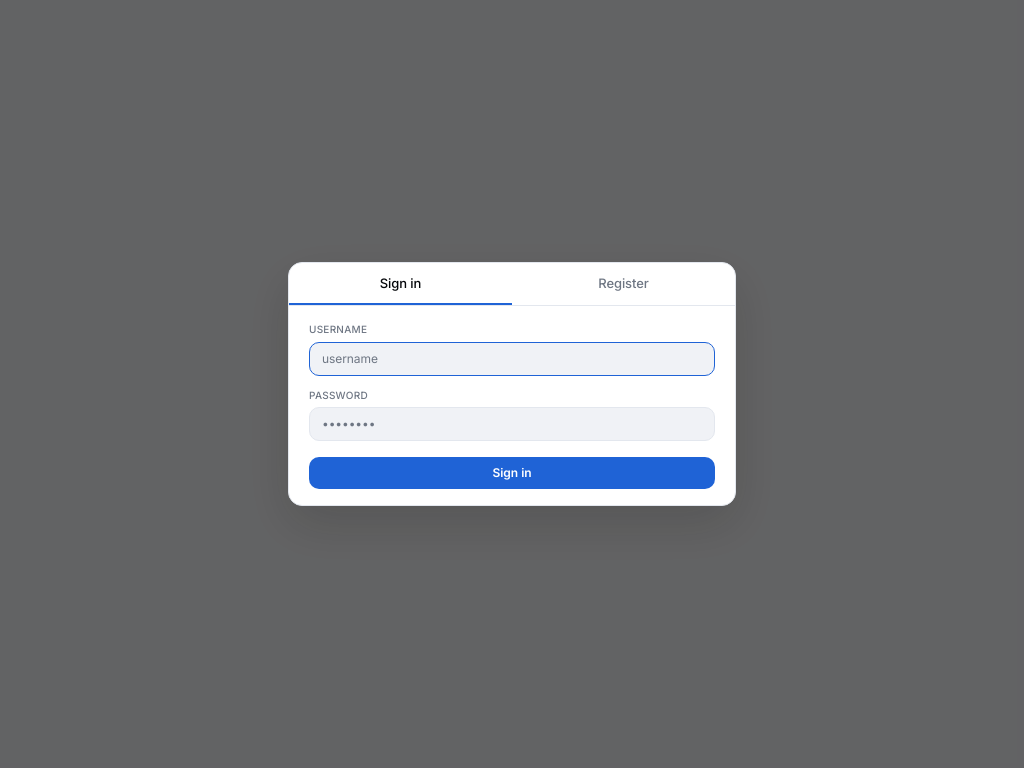
it: AuthModal › surfaces a 409 username-taken error from register
Step 1. Click the button "Register" → {"x": 624, "y": 284}, box [512,263,735,305]
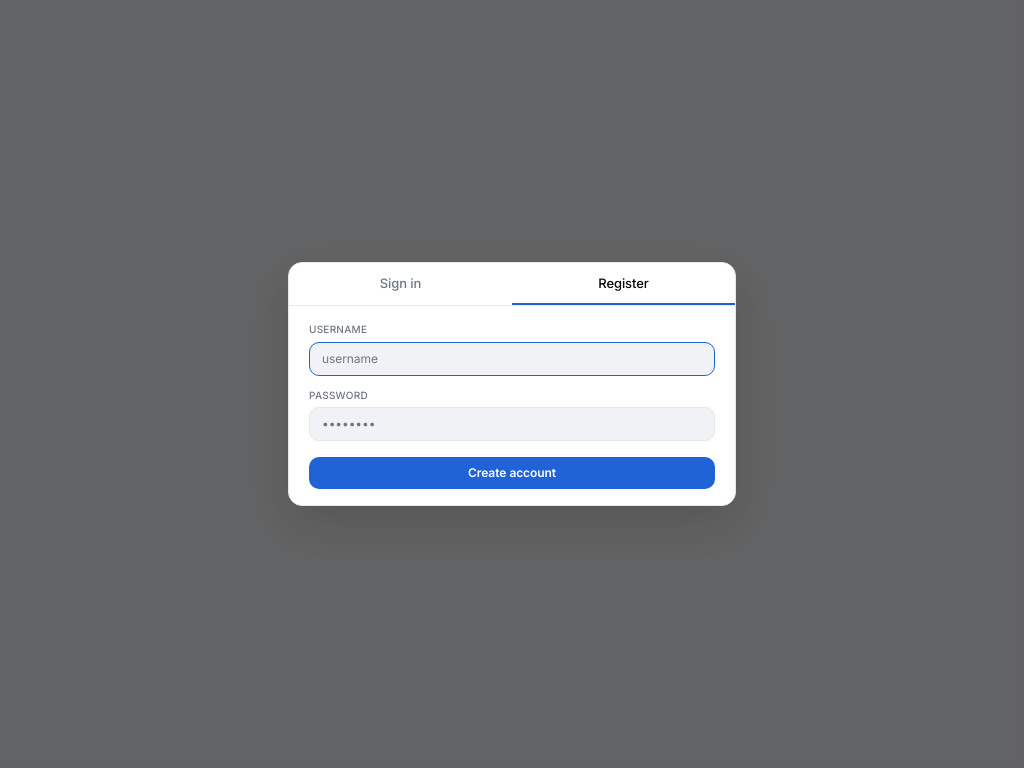
Step 2. Type "alice" into the field with placeholder "Username" → {"x": 512, "y": 359}, box [309,342,715,376]
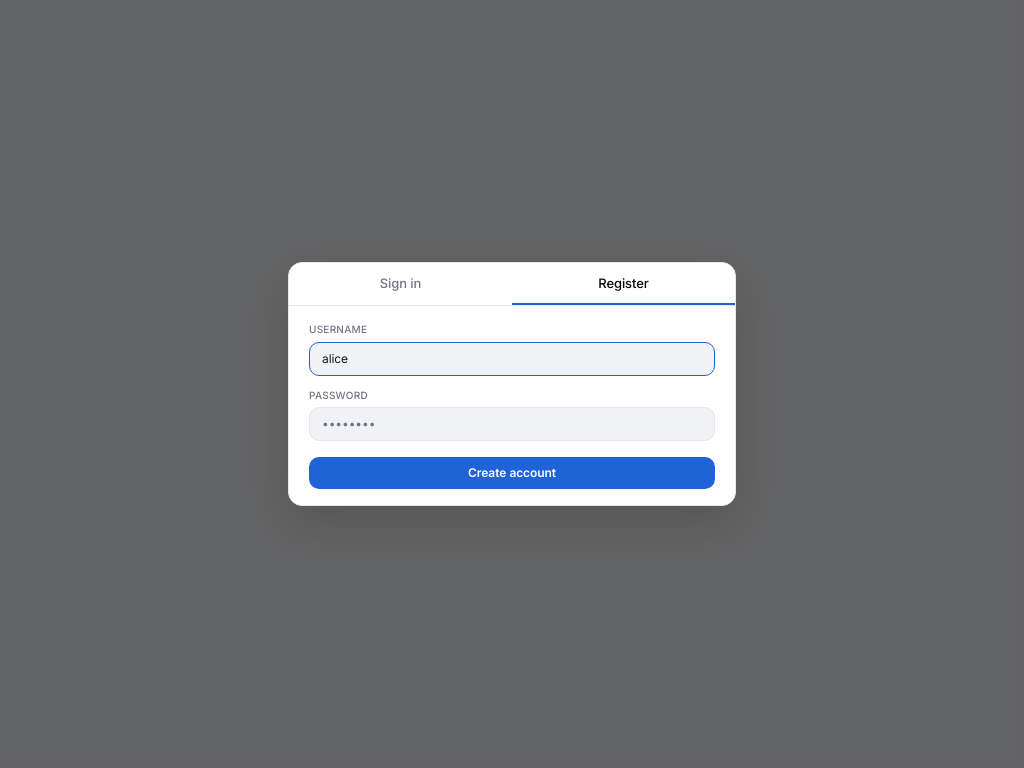
Step 3. Type "longenough1" into the password field with placeholder "••••••••" → {"x": 512, "y": 424}, box [309,407,715,441]
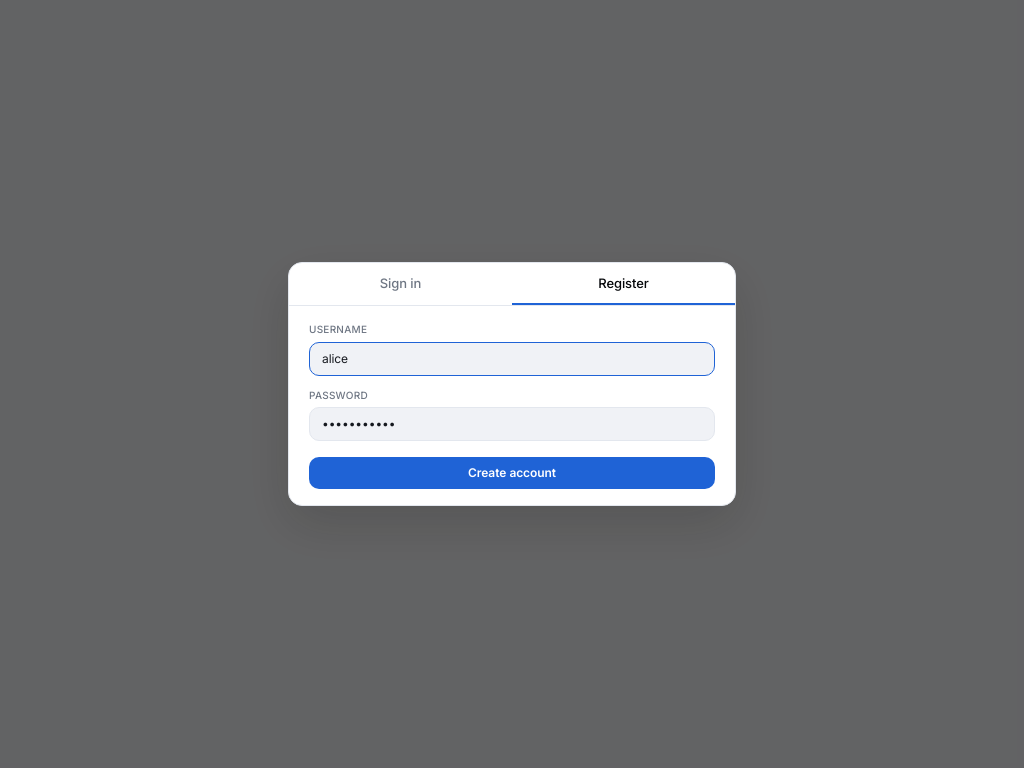
Step 4. Click the submit button → {"x": 512, "y": 473}, box [309,457,715,489]
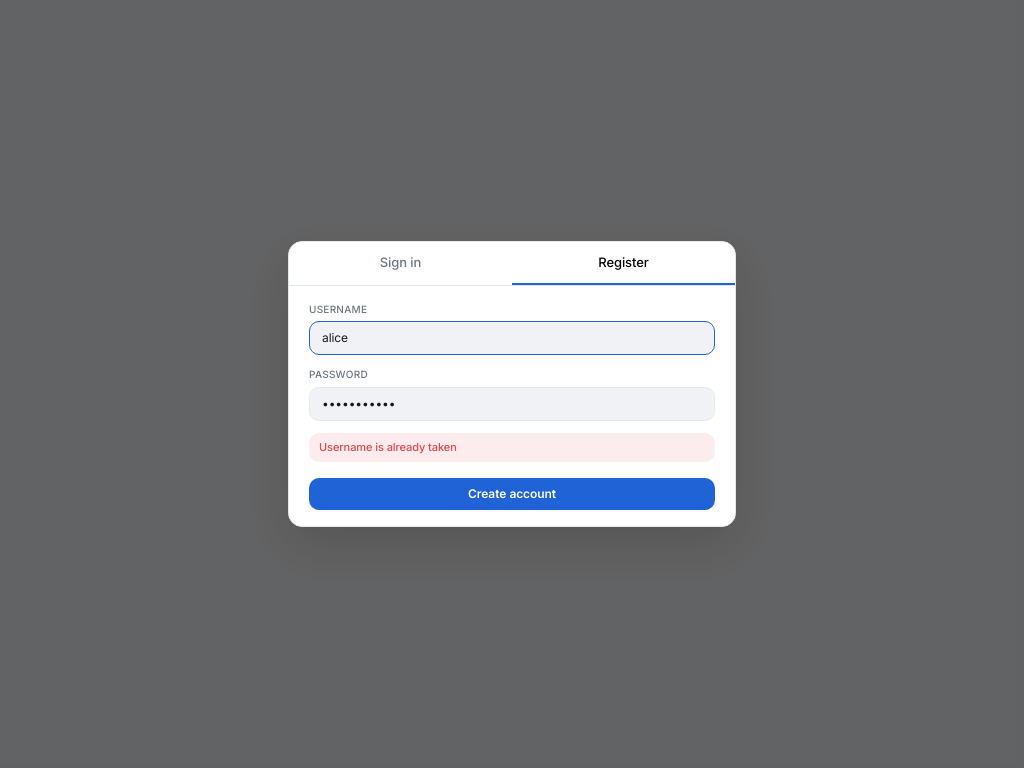
Now the text "Username is already taken" is shown, box [309,432,715,462]
